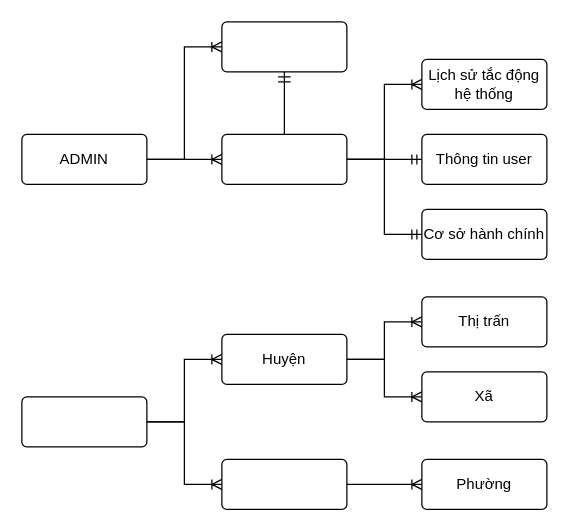
The diagram is 569 pixels wide and 531 high, and some of its shapes have lost their labels. The shapes that lost their labels are listed below. From the top down, each one's centre as x and y in pixels, then its label:
At pixel 284 46: "Báo cáo".
At pixel 284 158: "USER".
At pixel 84 421: "Tỉnh".
At pixel 284 483: "Thành phố".
